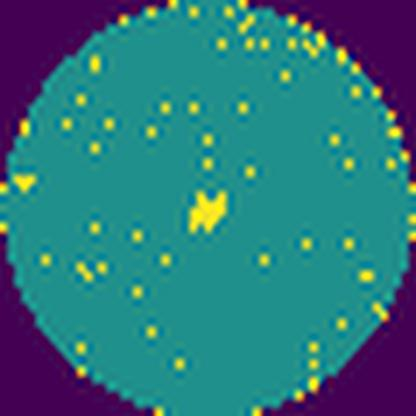Center: (187, 191, 230, 236)
